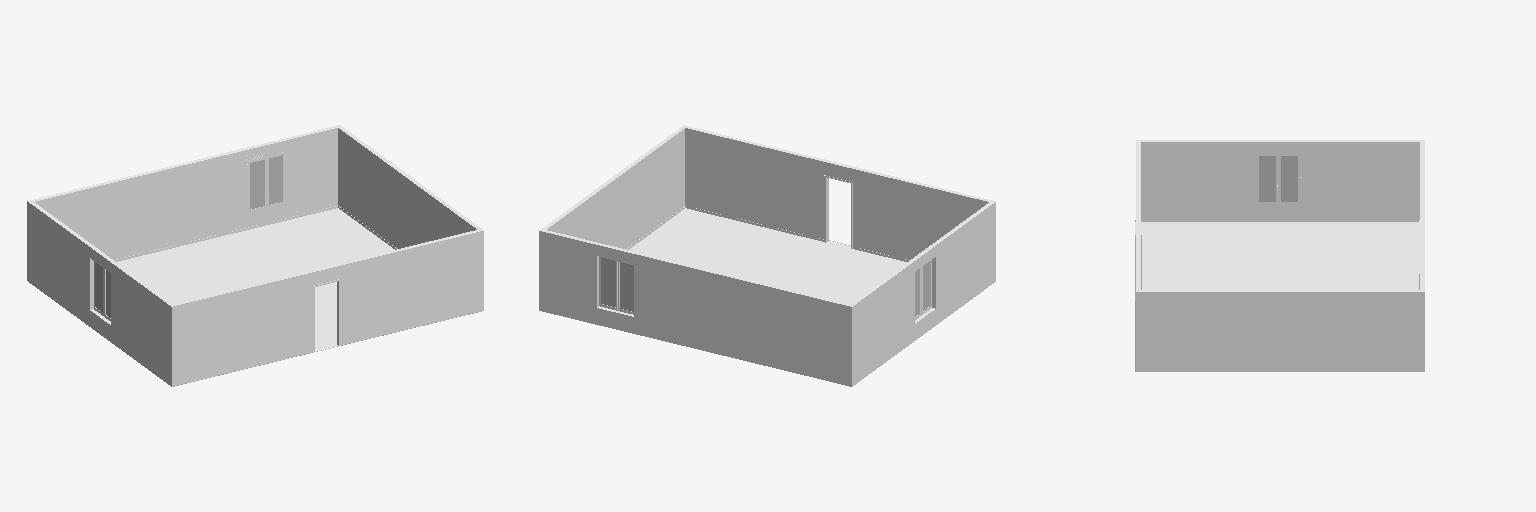
Rendered from loft01.obj.
The picture shows the model from 3 angles: view 1: azimuth 30°, elevation 25°; view 2: azimuth 150°, elevation 25°; view 3: azimuth 270°, elevation 25°; orthographic projection.
Parts seen in each view (by area): view 1: wall_3_19, wall_1_6, room_5_30, wall_4_26, wall_2_13, sweethome3d_window_pane_on_hinge_1_50, sweethome3d_window_pane_on_hinge_2_55, wall_1_4; view 2: wall_1_5, wall_3_20, room_5_30, wall_4_26, wall_2_13, sweethome3d_window_pane_on_hinge_2_55, sweethome3d_window_pane_on_hinge_1_50, frame_44; view 3: wall_2_12, wall_4_27, room_5_30, sweethome3d_window_pane_on_hinge_1_38, sweethome3d_window_pane_on_hinge_2_43, wall_4_25.
Part boxes in pixels (x1,y1,x2,y2): wall_3_19: (172,231,483,386); wall_1_6: (35,128,337,259); room_5_30: (117,208,394,351); wall_4_26: (27,201,171,386); wall_2_13: (338,128,476,248); sweethome3d_window_pane_on_hinge_1_50: (250,160,264,209); sweethome3d_window_pane_on_hinge_2_55: (269,155,282,204); wall_1_4: (114,206,337,261); wall_1_5: (539,231,851,386); wall_3_20: (685,128,988,259); room_5_30: (629,208,906,303); wall_4_26: (852,202,995,386); wall_2_13: (547,129,684,248); sweethome3d_window_pane_on_hinge_2_55: (601,257,615,306); sweethome3d_window_pane_on_hinge_1_50: (620,262,633,311); frame_44: (595,254,635,318); wall_2_12: (1136,292,1424,371); wall_4_27: (1141,142,1419,219); room_5_30: (1142,222,1418,289); sweethome3d_window_pane_on_hinge_1_38: (1259,156,1275,201); sweethome3d_window_pane_on_hinge_2_43: (1281,156,1297,201); wall_4_25: (1141,220,1418,221).
Size of the model in its own units: 1022 by 250 by 819.